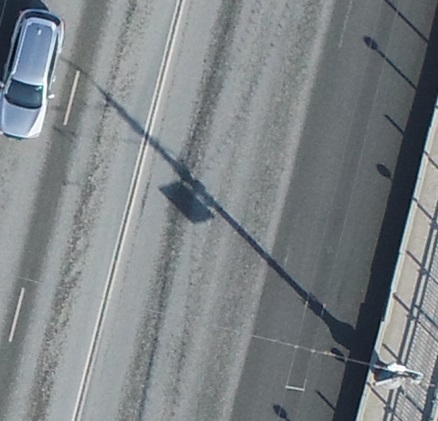opora: (358, 340, 426, 390)
